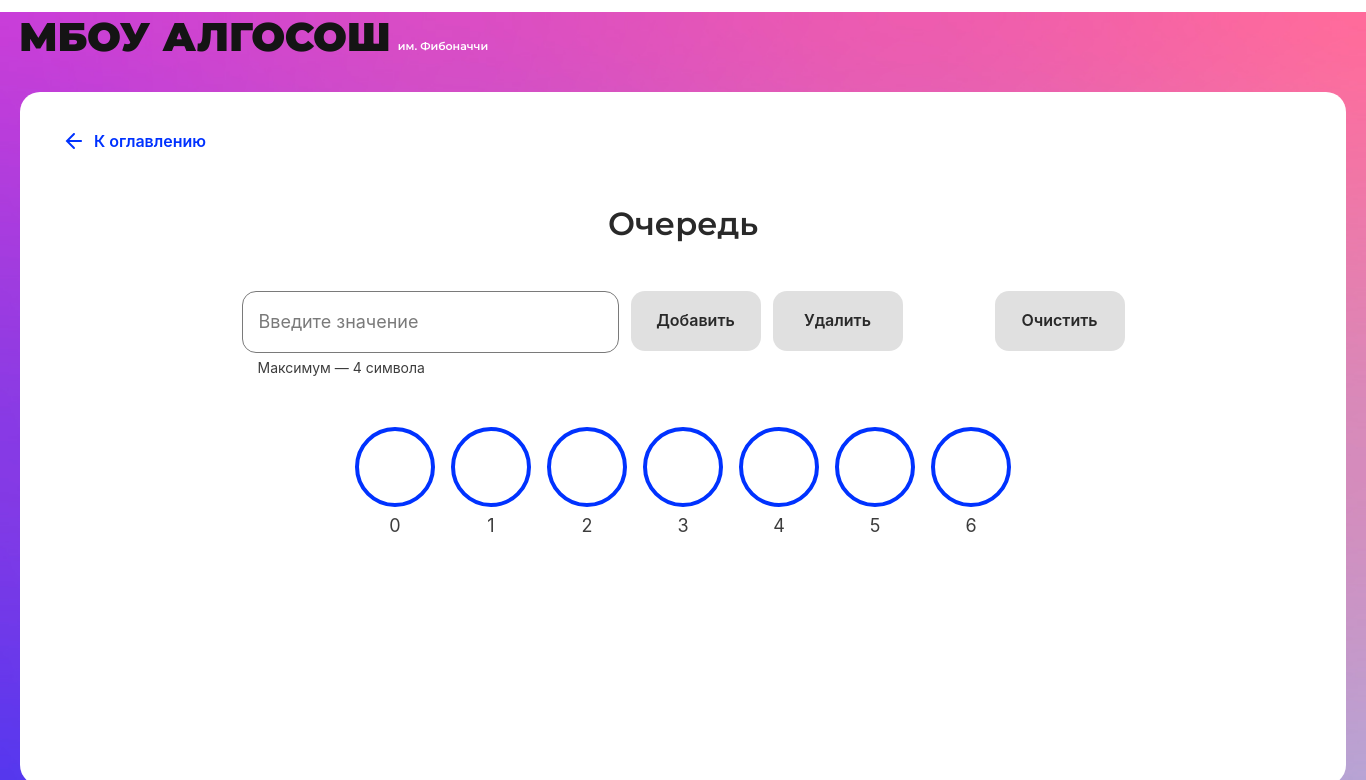
it: queue component works correctly › check the button's status › After adding the element, then the clear and del buttons is available
In the field with placeholder "Введите значение": [431, 322] box [242,291,619,353], type "239"
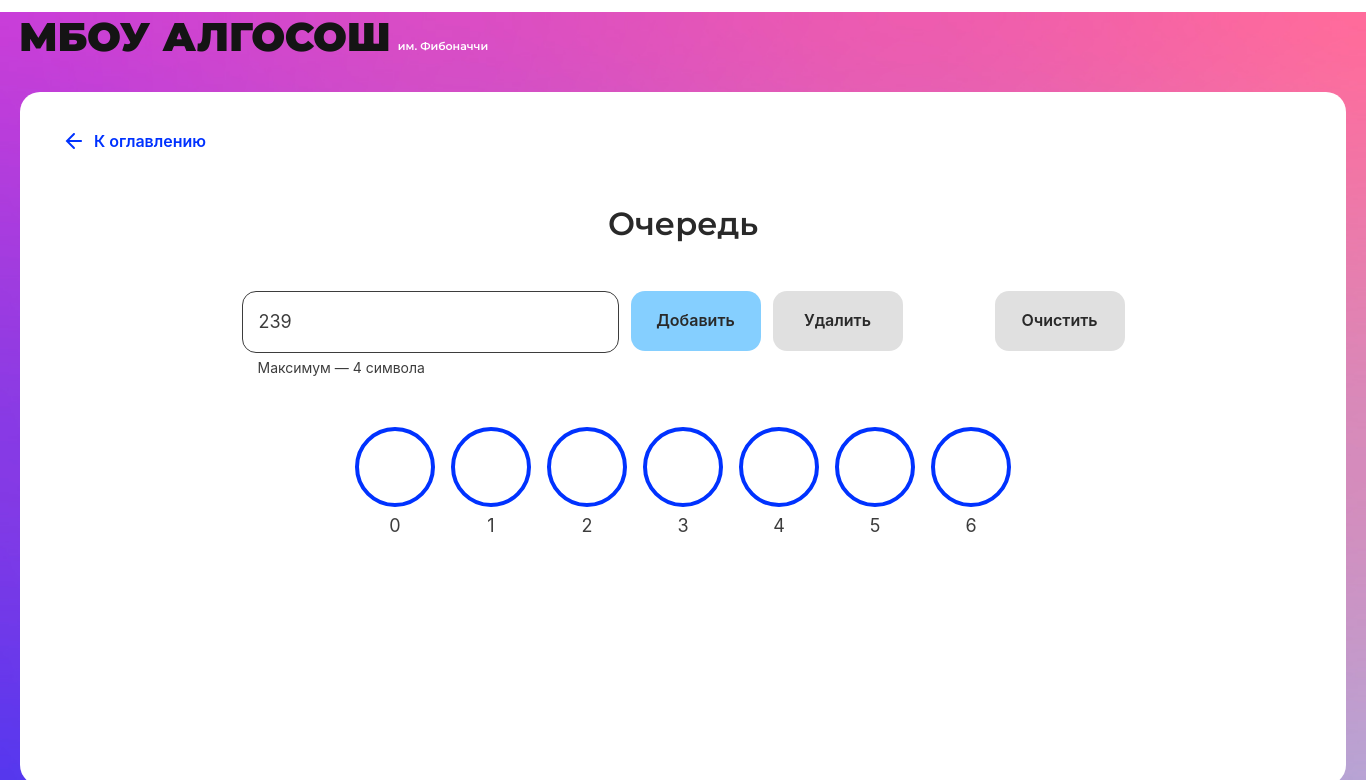
Click the button "Добавить": [696, 321] box [631,291,761,351]
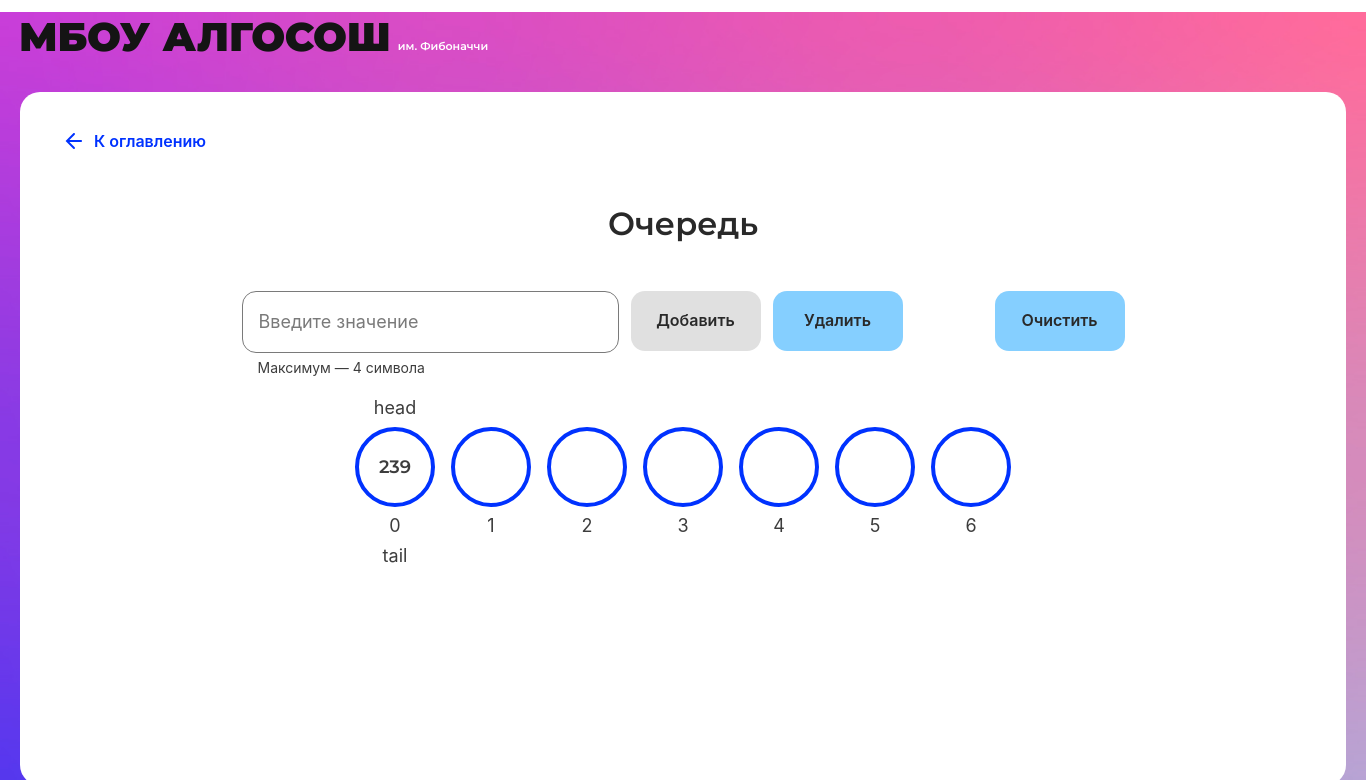
expect the text "Удалить" is enabled: met
expect the button "Добавить" is disabled: met, box [631,291,761,351]
